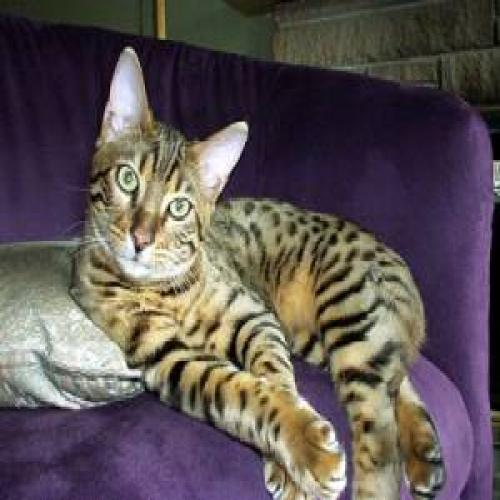bengal: (82, 39, 253, 294)
